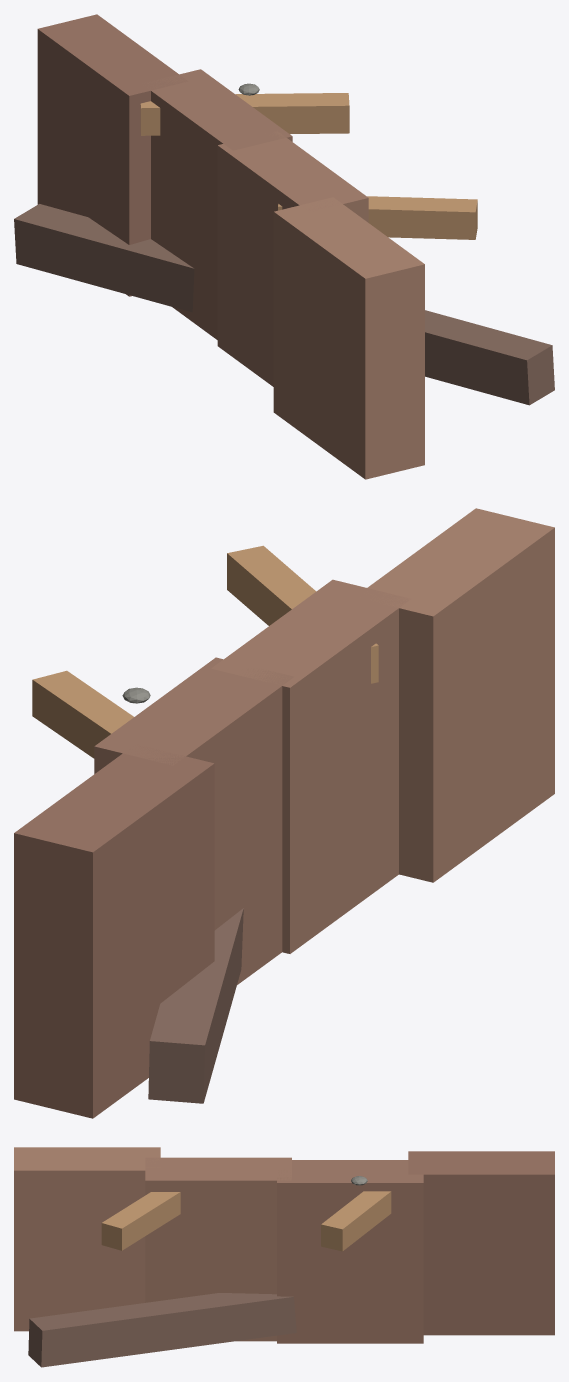
File: wrecked_hull_chunk.glb
3 views of the same model, one above another, from view 1: azimuth 30°, elevation 25°; view 2: azimuth 150°, elevation 25°; view 3: azimuth 270°, elevation 25° (orthographic). The views are drawn at different scales.
Parts seen in each view (by area): view 1: Hull_Plank_3, Hull_Plank_0, Curved_Keel_Fragment, Hull_Plank_2, Hull_Plank_1, Broken_Deck_Rib_2, Broken_Deck_Rib_1; view 2: Hull_Plank_0, Hull_Plank_3, Hull_Plank_2, Hull_Plank_1, Curved_Keel_Fragment, Broken_Deck_Rib_1, Broken_Deck_Rib_2; view 3: Hull_Plank_0, Hull_Plank_1, Hull_Plank_3, Hull_Plank_2, Curved_Keel_Fragment, Broken_Deck_Rib_2, Broken_Deck_Rib_1.
Part boxes in pixels (<box>): Hull_Plank_3: <box>273,197,424,479</box>; Hull_Plank_0: <box>37,14,188,296</box>; Curved_Keel_Fragment: <box>14,204,554,405</box>; Hull_Plank_2: <box>217,131,368,386</box>; Hull_Plank_1: <box>147,69,292,339</box>; Broken_Deck_Rib_2: <box>278,196,477,239</box>; Broken_Deck_Rib_1: <box>140,93,349,135</box>; Hull_Plank_0: <box>14,746,214,1118</box>; Hull_Plank_3: <box>367,508,554,882</box>; Hull_Plank_2: <box>211,579,410,953</box>; Hull_Plank_1: <box>94,657,294,984</box>; Curved_Keel_Fragment: <box>148,908,243,1103</box>; Broken_Deck_Rib_1: <box>32,670,133,758</box>; Broken_Deck_Rib_2: <box>227,545,378,683</box>; Hull_Plank_0: <box>408,1151,554,1335</box>; Hull_Plank_1: <box>277,1160,423,1343</box>; Hull_Plank_3: <box>14,1147,160,1331</box>; Hull_Plank_2: <box>145,1157,291,1341</box>; Curved_Keel_Fragment: <box>28,1293,296,1367</box>; Broken_Deck_Rib_2: <box>101,1192,180,1250</box>; Broken_Deck_Rib_1: <box>321,1191,391,1251</box>.
Bounding box in the file's own units: 0.7568 × 0.612 × 1.77.
